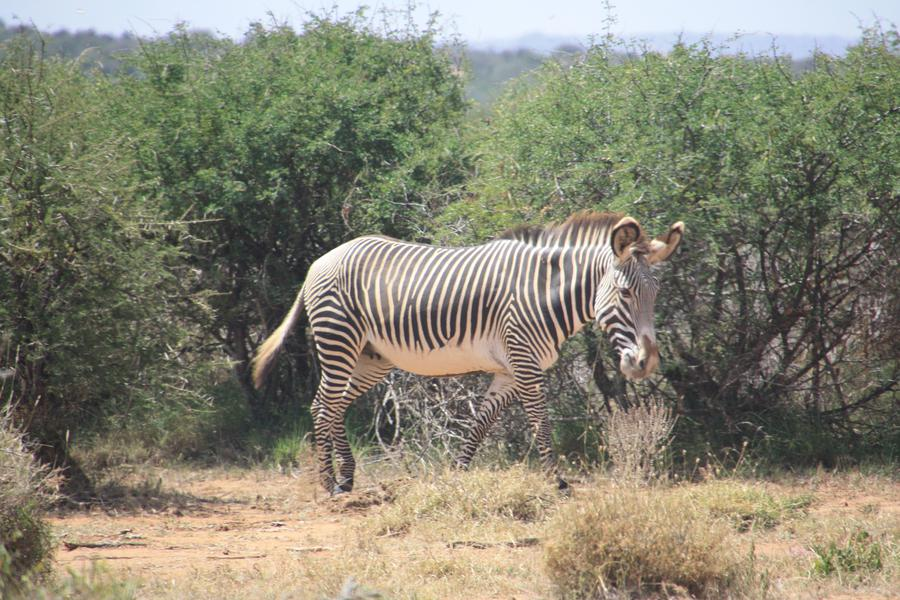zebra_grevys: (313, 225, 549, 369)
